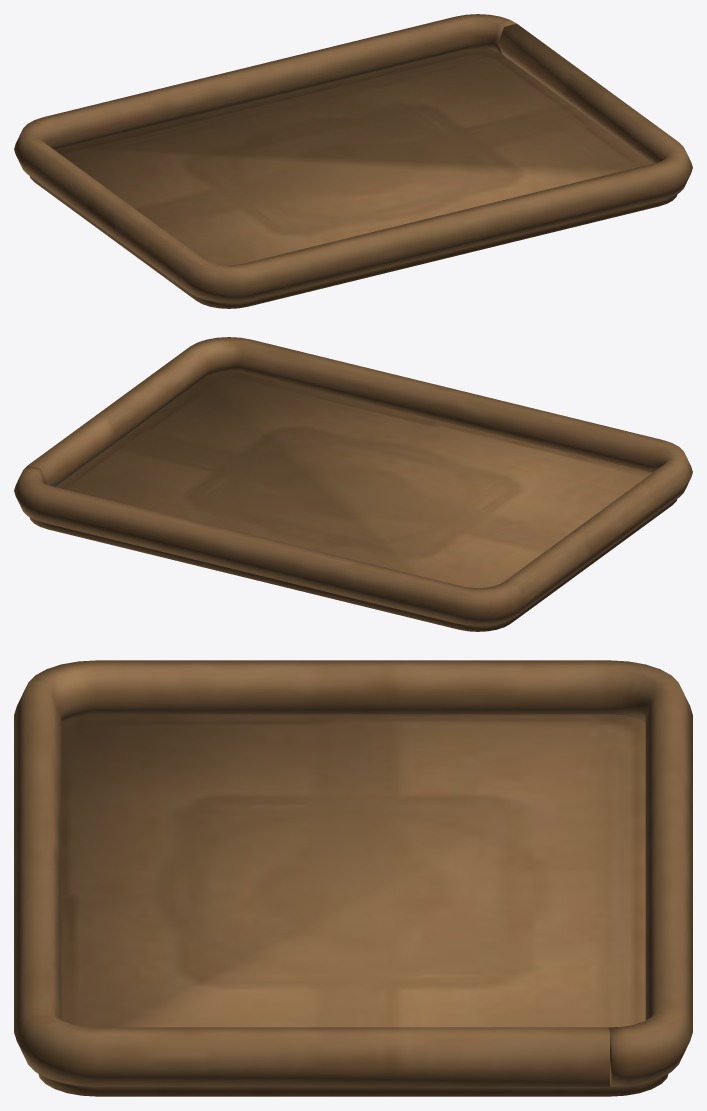
Rendered from tray_wood.glb.
3 renders of one model, top to bottom at view 1: azimuth 30°, elevation 25°; view 2: azimuth 150°, elevation 25°; view 3: azimuth 270°, elevation 25°, orthographic. The views are drawn at different scales.
Parts seen in each view (by area): view 1: prop_tray_wood_wood; view 2: prop_tray_wood_wood; view 3: prop_tray_wood_wood.
Part boxes in pixels (left/top/right/bottom): prop_tray_wood_wood: left=14, top=14, right=692, bottom=308; prop_tray_wood_wood: left=14, top=337, right=692, bottom=631; prop_tray_wood_wood: left=14, top=660, right=692, bottom=1096.
Size of the model in its own units: 0.928 by 0.0717 by 0.688.
Materials: 1 (1 with a texture image).
